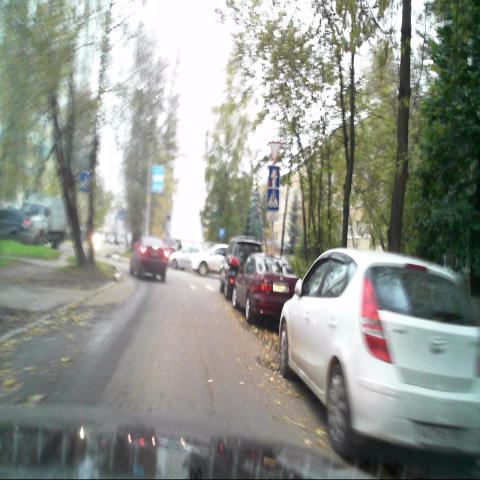2_4: (269, 142, 281, 165)
5_19_1: (268, 189, 279, 210)
5_6: (270, 166, 280, 184)
6_4: (219, 227, 225, 238)
